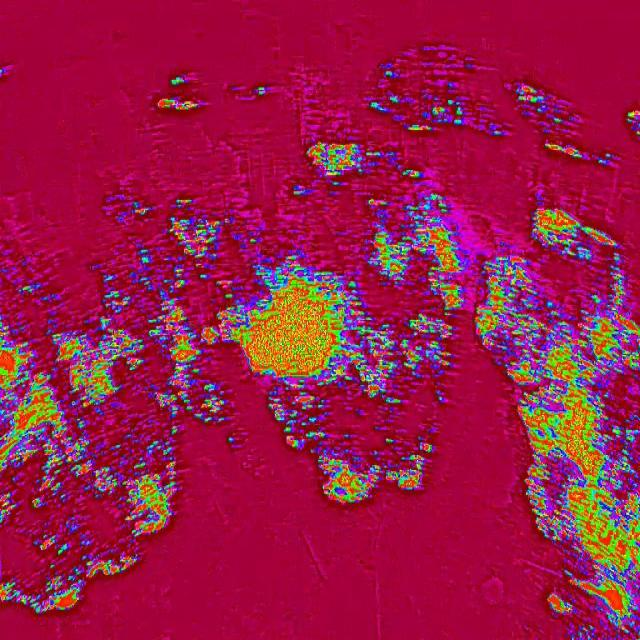fire: (0, 239, 181, 539), (531, 196, 640, 640), (182, 240, 466, 400), (362, 152, 464, 288), (371, 53, 501, 147), (0, 539, 138, 615), (110, 190, 228, 271), (471, 255, 534, 394), (316, 436, 436, 506), (514, 80, 596, 160), (268, 400, 342, 450), (296, 137, 369, 186), (151, 72, 212, 122), (514, 394, 532, 505), (181, 399, 228, 426), (626, 104, 640, 140)
